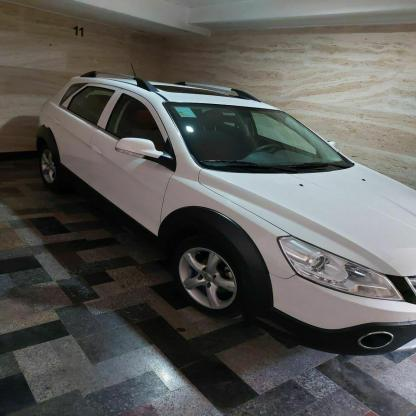Car: (26, 70, 416, 361)
